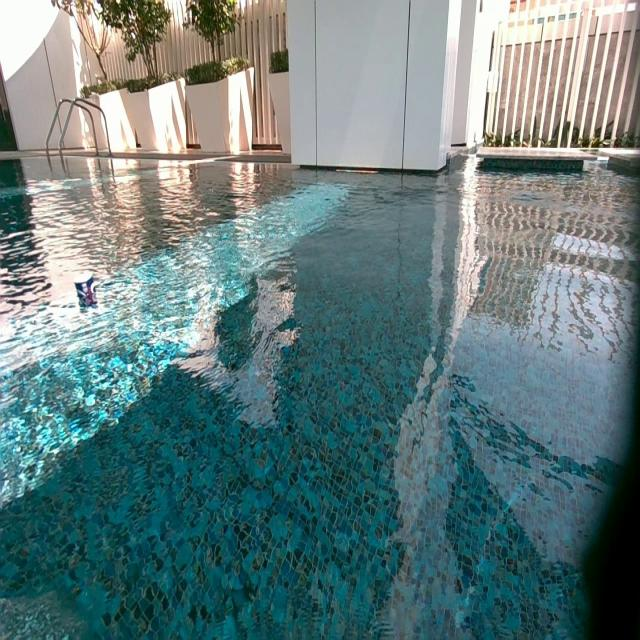Cans: (77, 276, 97, 303)
